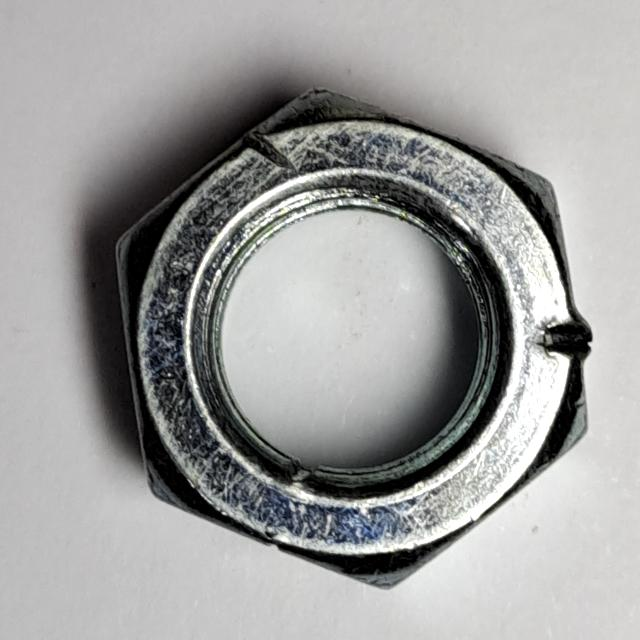Scratches: (96, 68, 609, 607)
